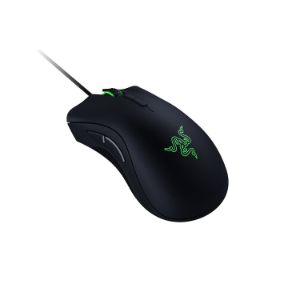mouse: (56, 72, 231, 225)
